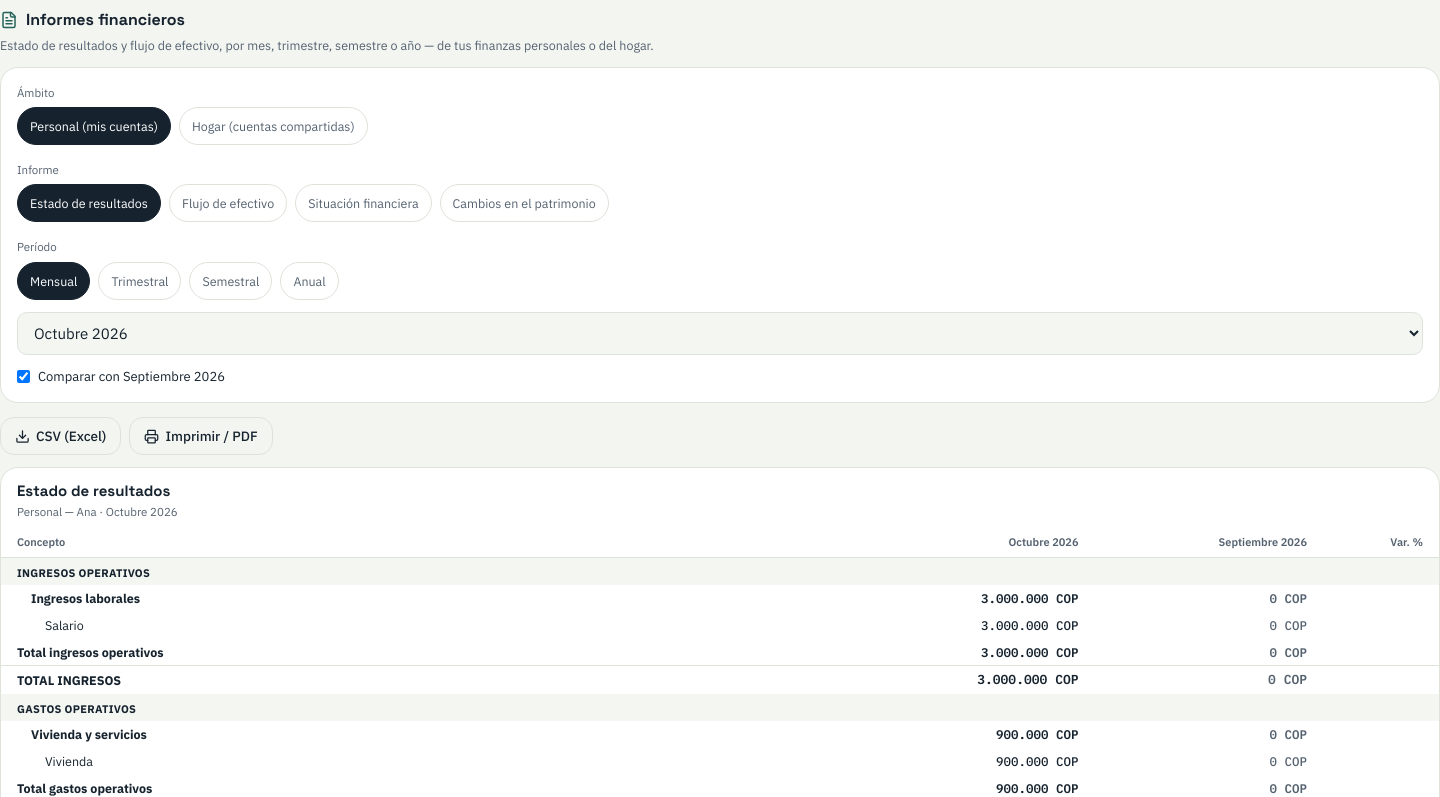
Test: Informes (prueba de humo) › los cambios en el patrimonio muestran inicio, partes y final
Click the button "Cambios en el patrimonio" at point(524, 203), box [440,184,609,222]
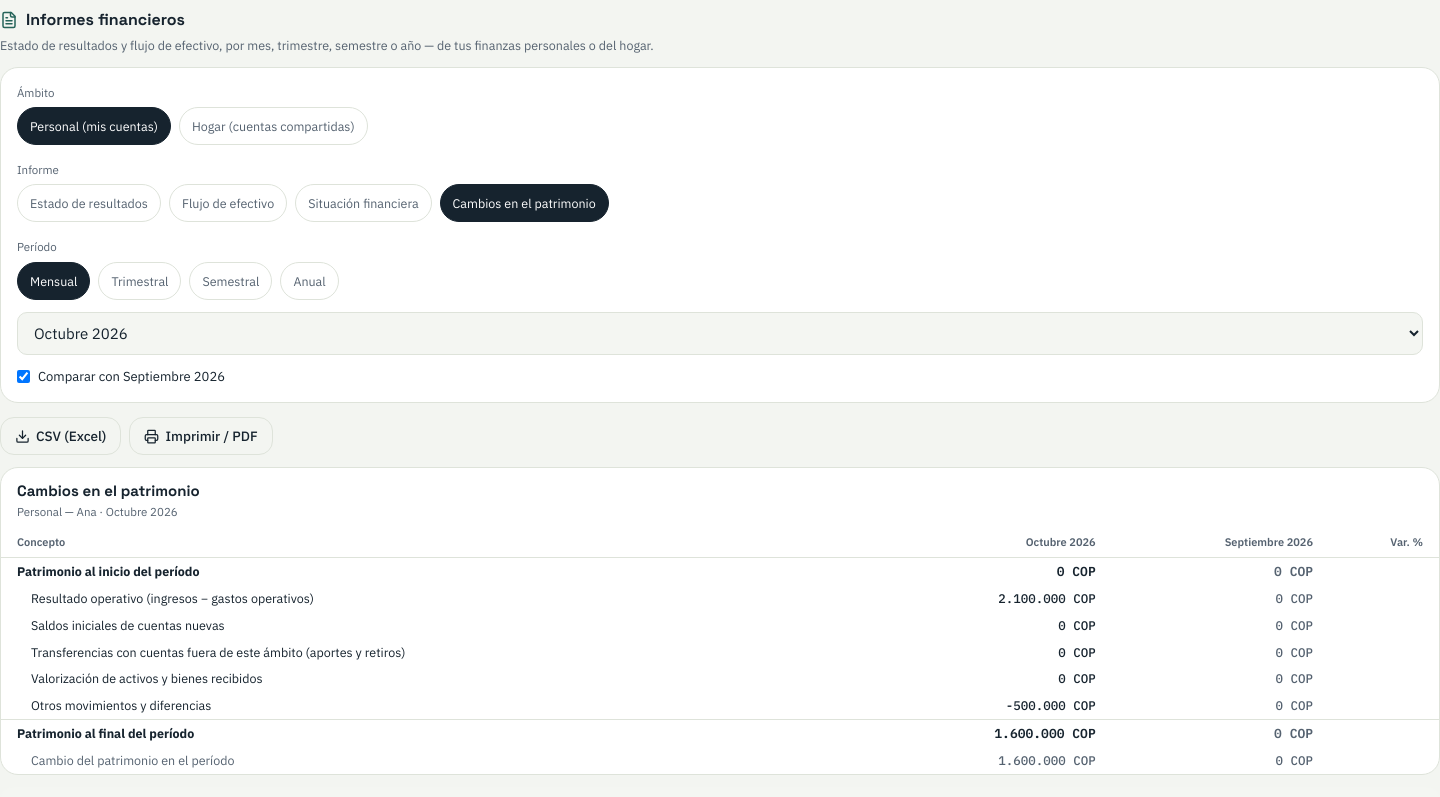
Now the text "Patrimonio al inicio del período" is shown, box [1,557,859,585]
Now the text "Patrimonio al final del período" is shown, box [1,719,859,747]
Now the text "Valorización de activos y bienes recibidos" is shown, box [1,665,859,692]
